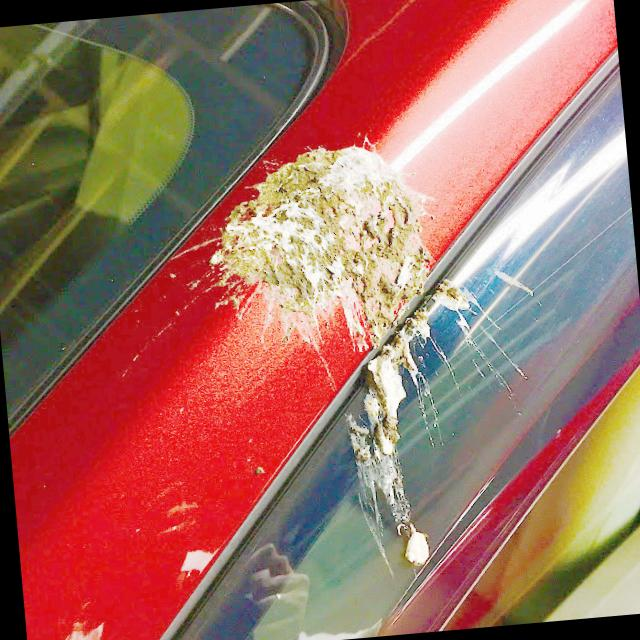Bird Poop: (211, 146, 525, 565), (493, 269, 531, 295)
